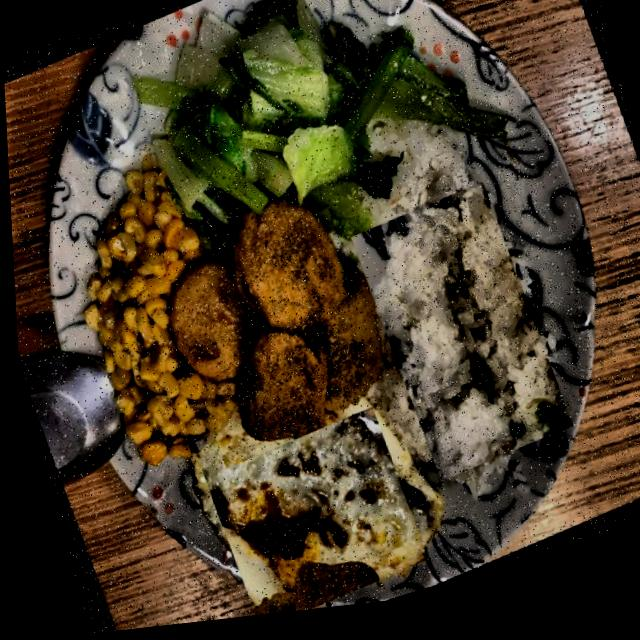Food: (140, 181, 404, 484), (342, 180, 573, 504), (181, 370, 428, 626)
